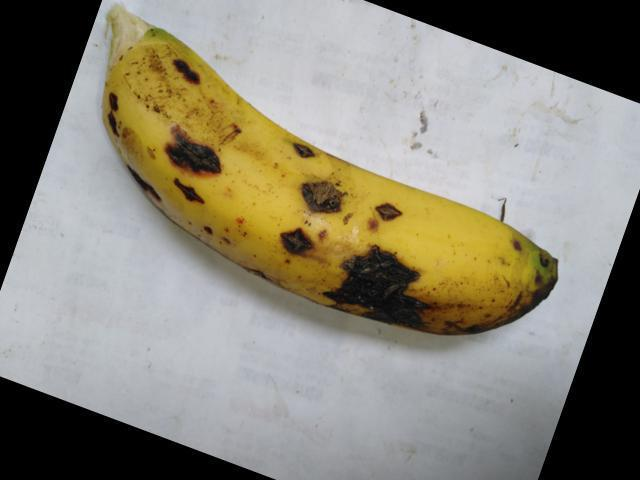rotten: (322, 230, 446, 345), (124, 131, 233, 203), (260, 222, 335, 278), (297, 170, 344, 234), (280, 121, 336, 174), (160, 46, 209, 95), (92, 89, 132, 138), (361, 197, 417, 228)
